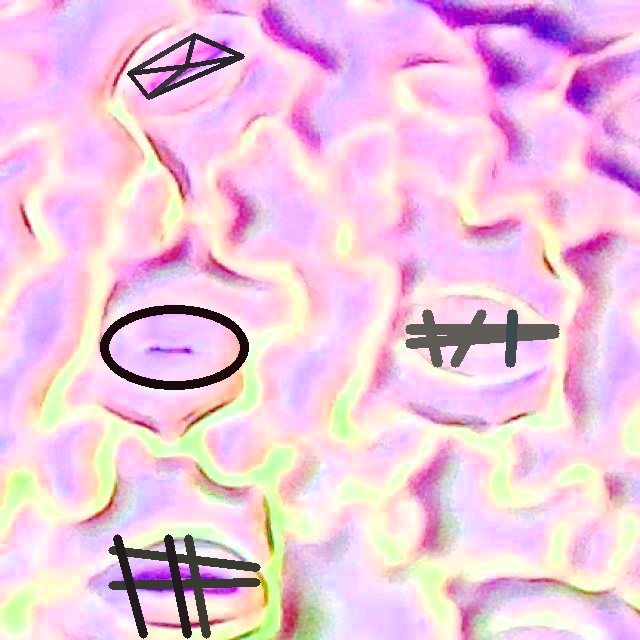close: (99, 304, 249, 390), (406, 309, 558, 366)
open: (109, 534, 260, 638), (127, 33, 244, 99)
